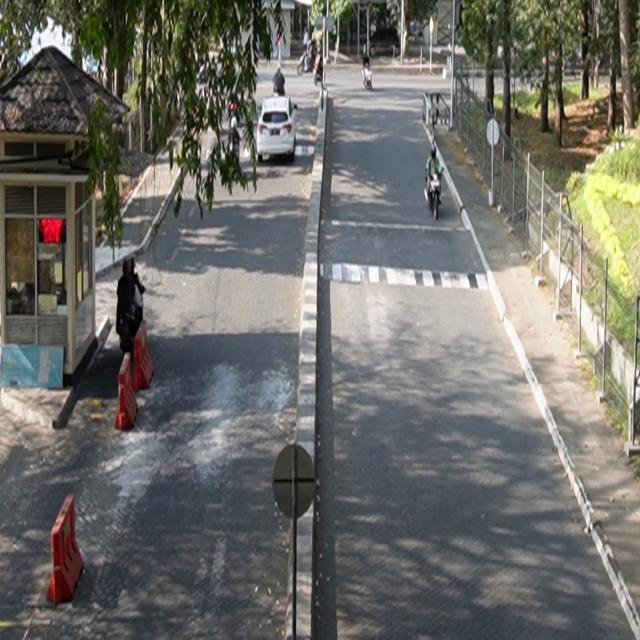car: (257, 96, 299, 163)
